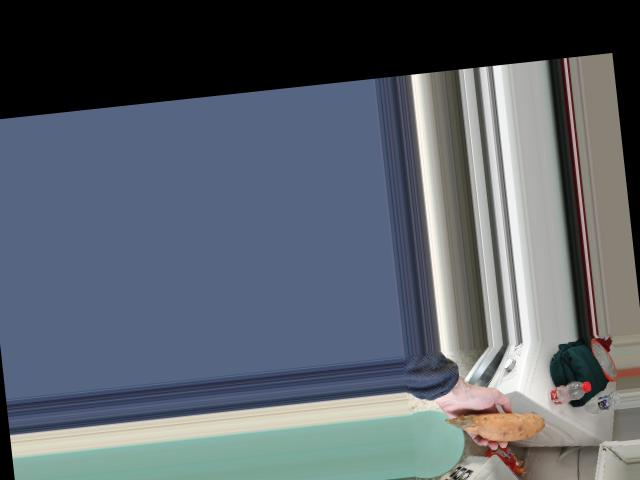sweet_potato: (435, 413, 543, 452)
